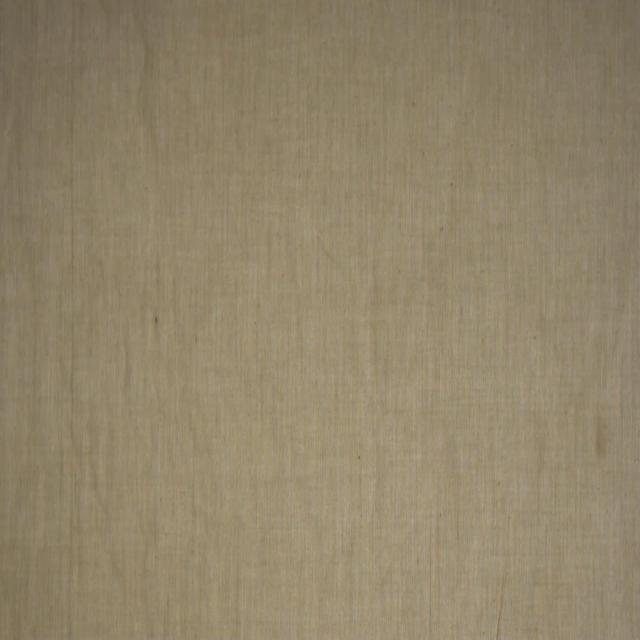dirty: (595, 412, 609, 451), (154, 316, 158, 322)
